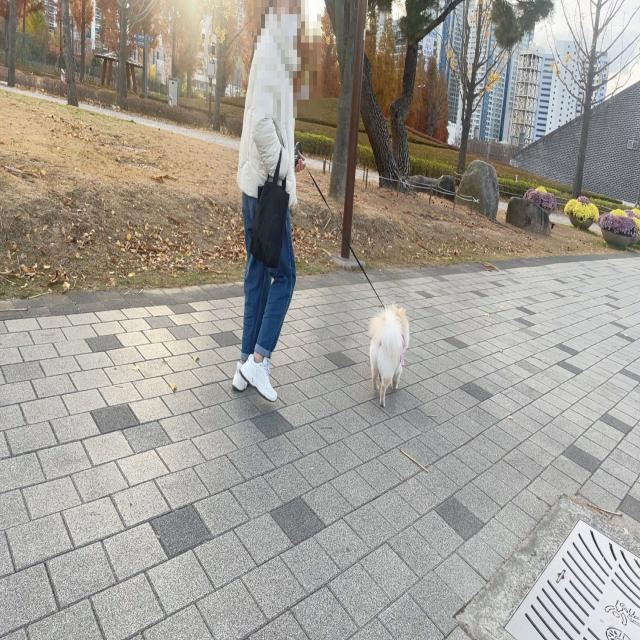Leashed_Dog: (275, 144, 410, 407)
